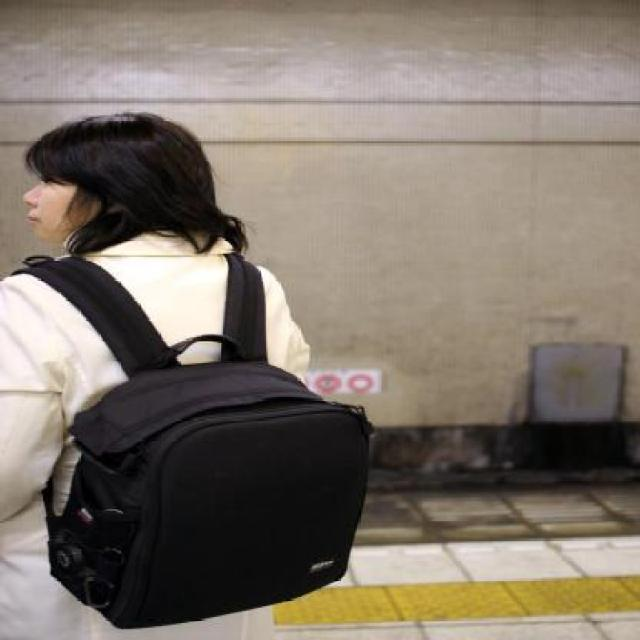backpack: (32, 328, 378, 634)
